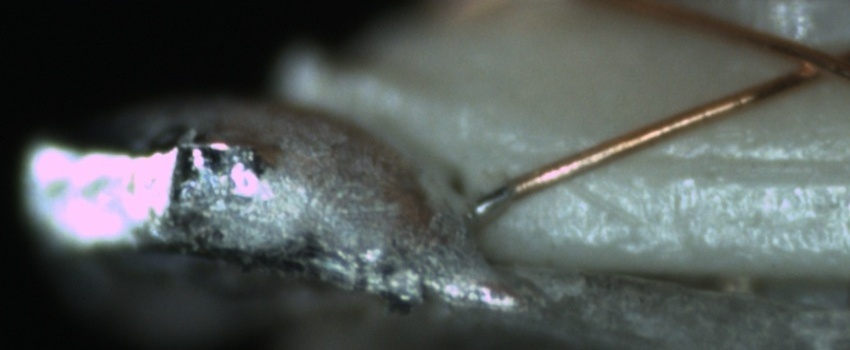CL: (774, 35, 848, 88)
DL: (557, 128, 850, 200)
TS: (466, 184, 507, 222)
